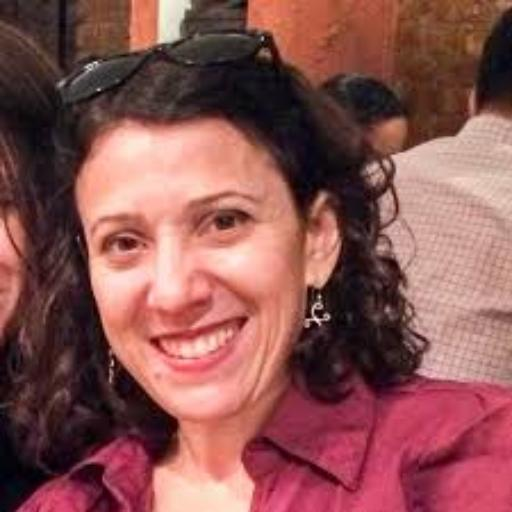left_eye: (200, 210, 258, 237)
left_lip_corner: (236, 309, 257, 329)
right_eye: (99, 234, 151, 259)
right_lip_corner: (145, 334, 159, 350)
